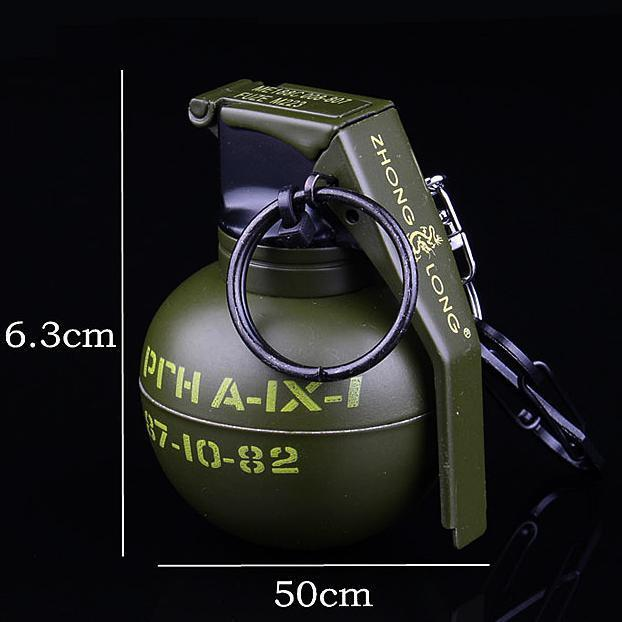Grenade: (138, 79, 488, 560)
